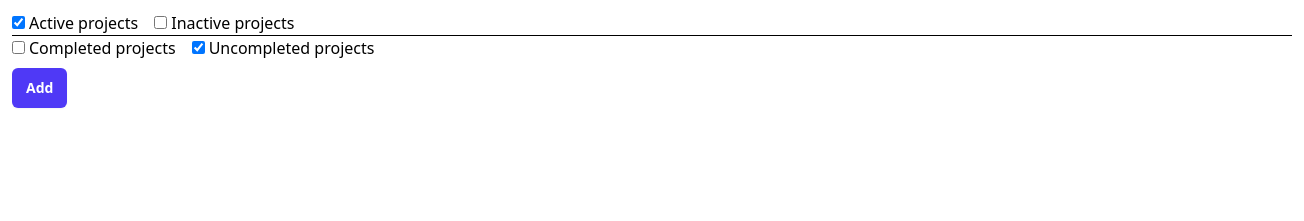
Test: ProjectView › get both active and inactive projects
Click the checkbox labelled "Inactive projects". click: [161, 22]
box: 154,16 -> 167,29
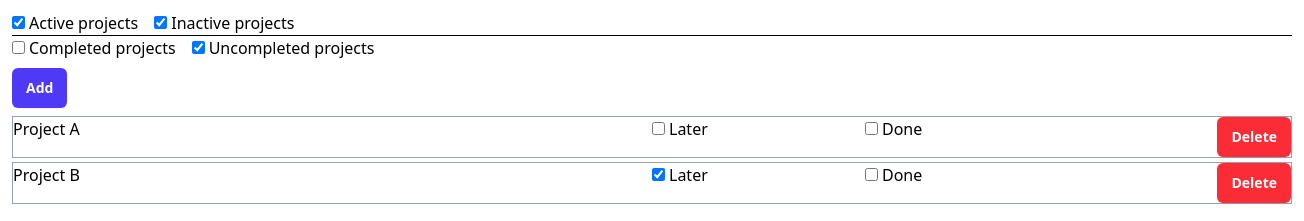
Now the checkbox labelled "Inactive projects" is checked, box 154,16 -> 167,29
Now the number of elements with test id "project" is 2, box 12,116 -> 1292,158; 12,162 -> 1292,204
Now the text with test id "name" reads "Project A", box 13,118 -> 80,140
